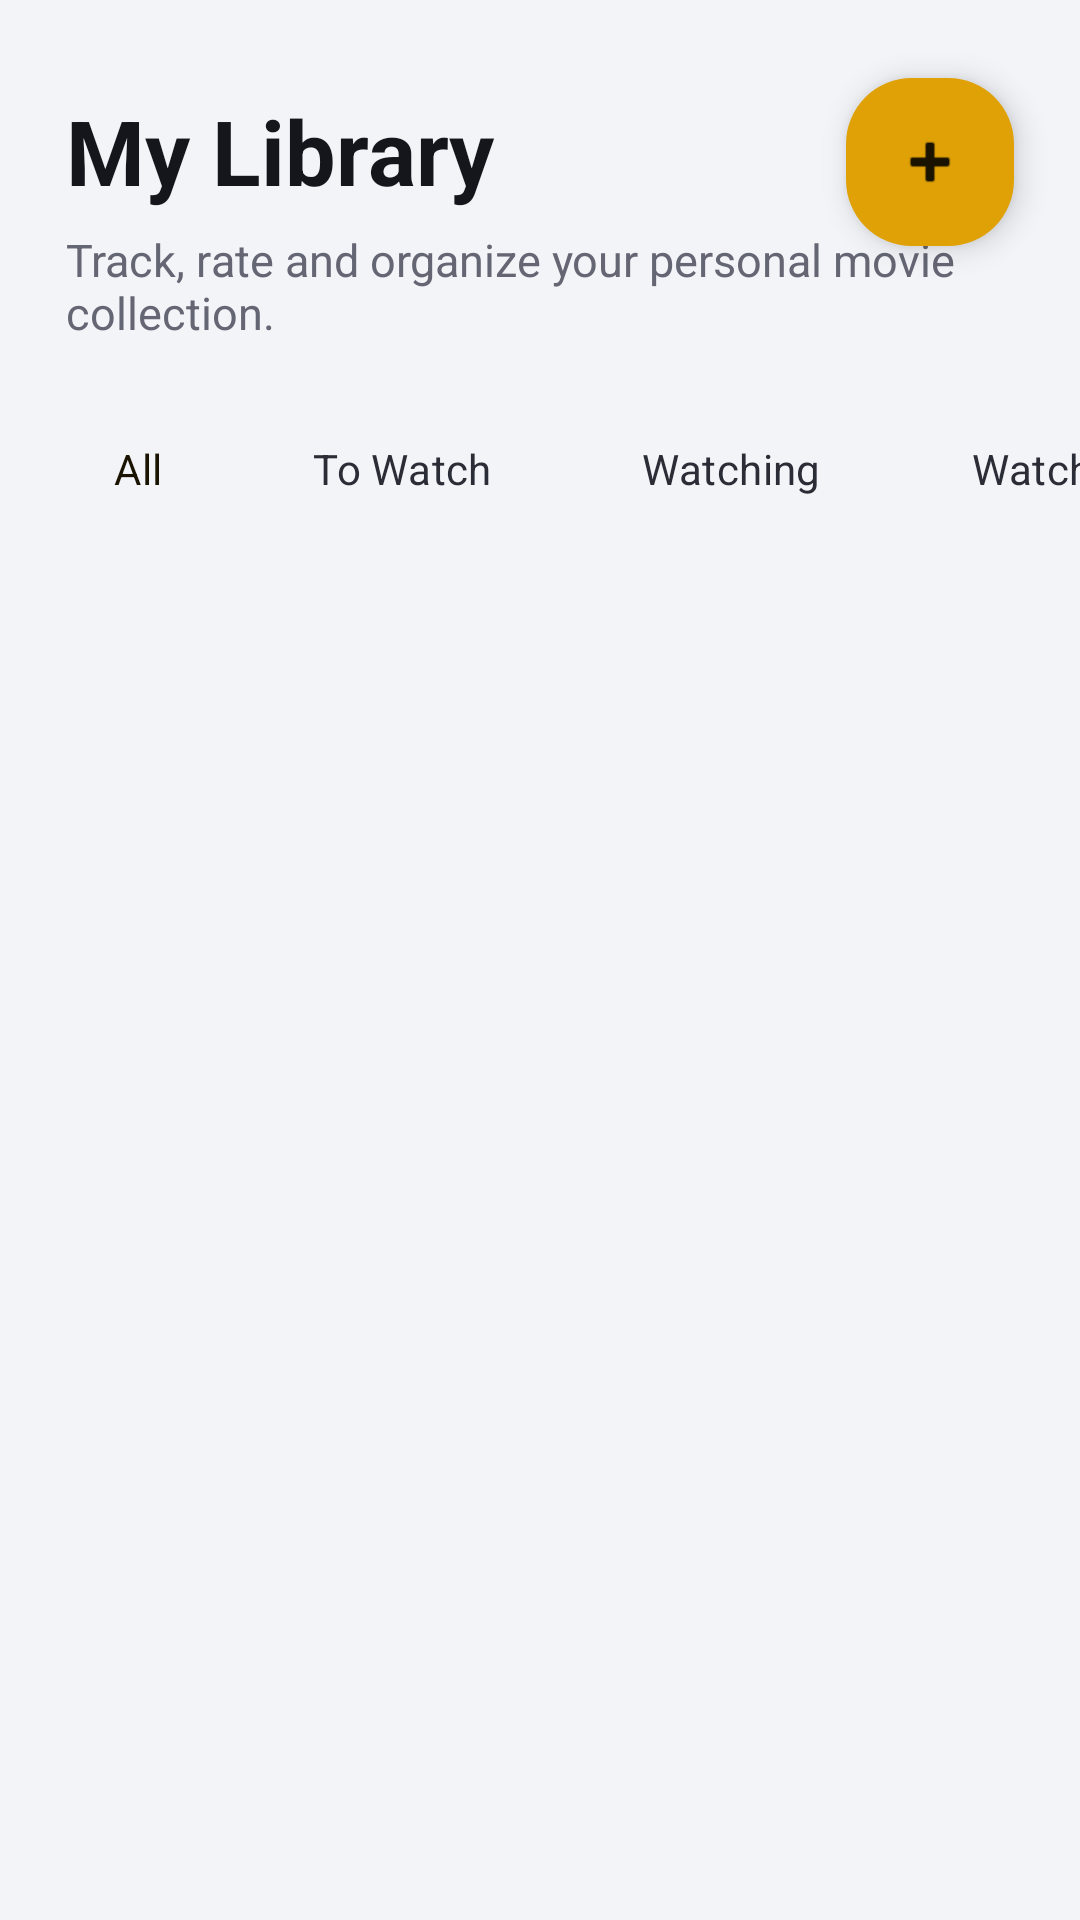

Locate icon controls on the screen. Image size 1080*1920, boxes as (x1, y1, x2, y2).
Add movie: (846, 78, 1014, 246)
